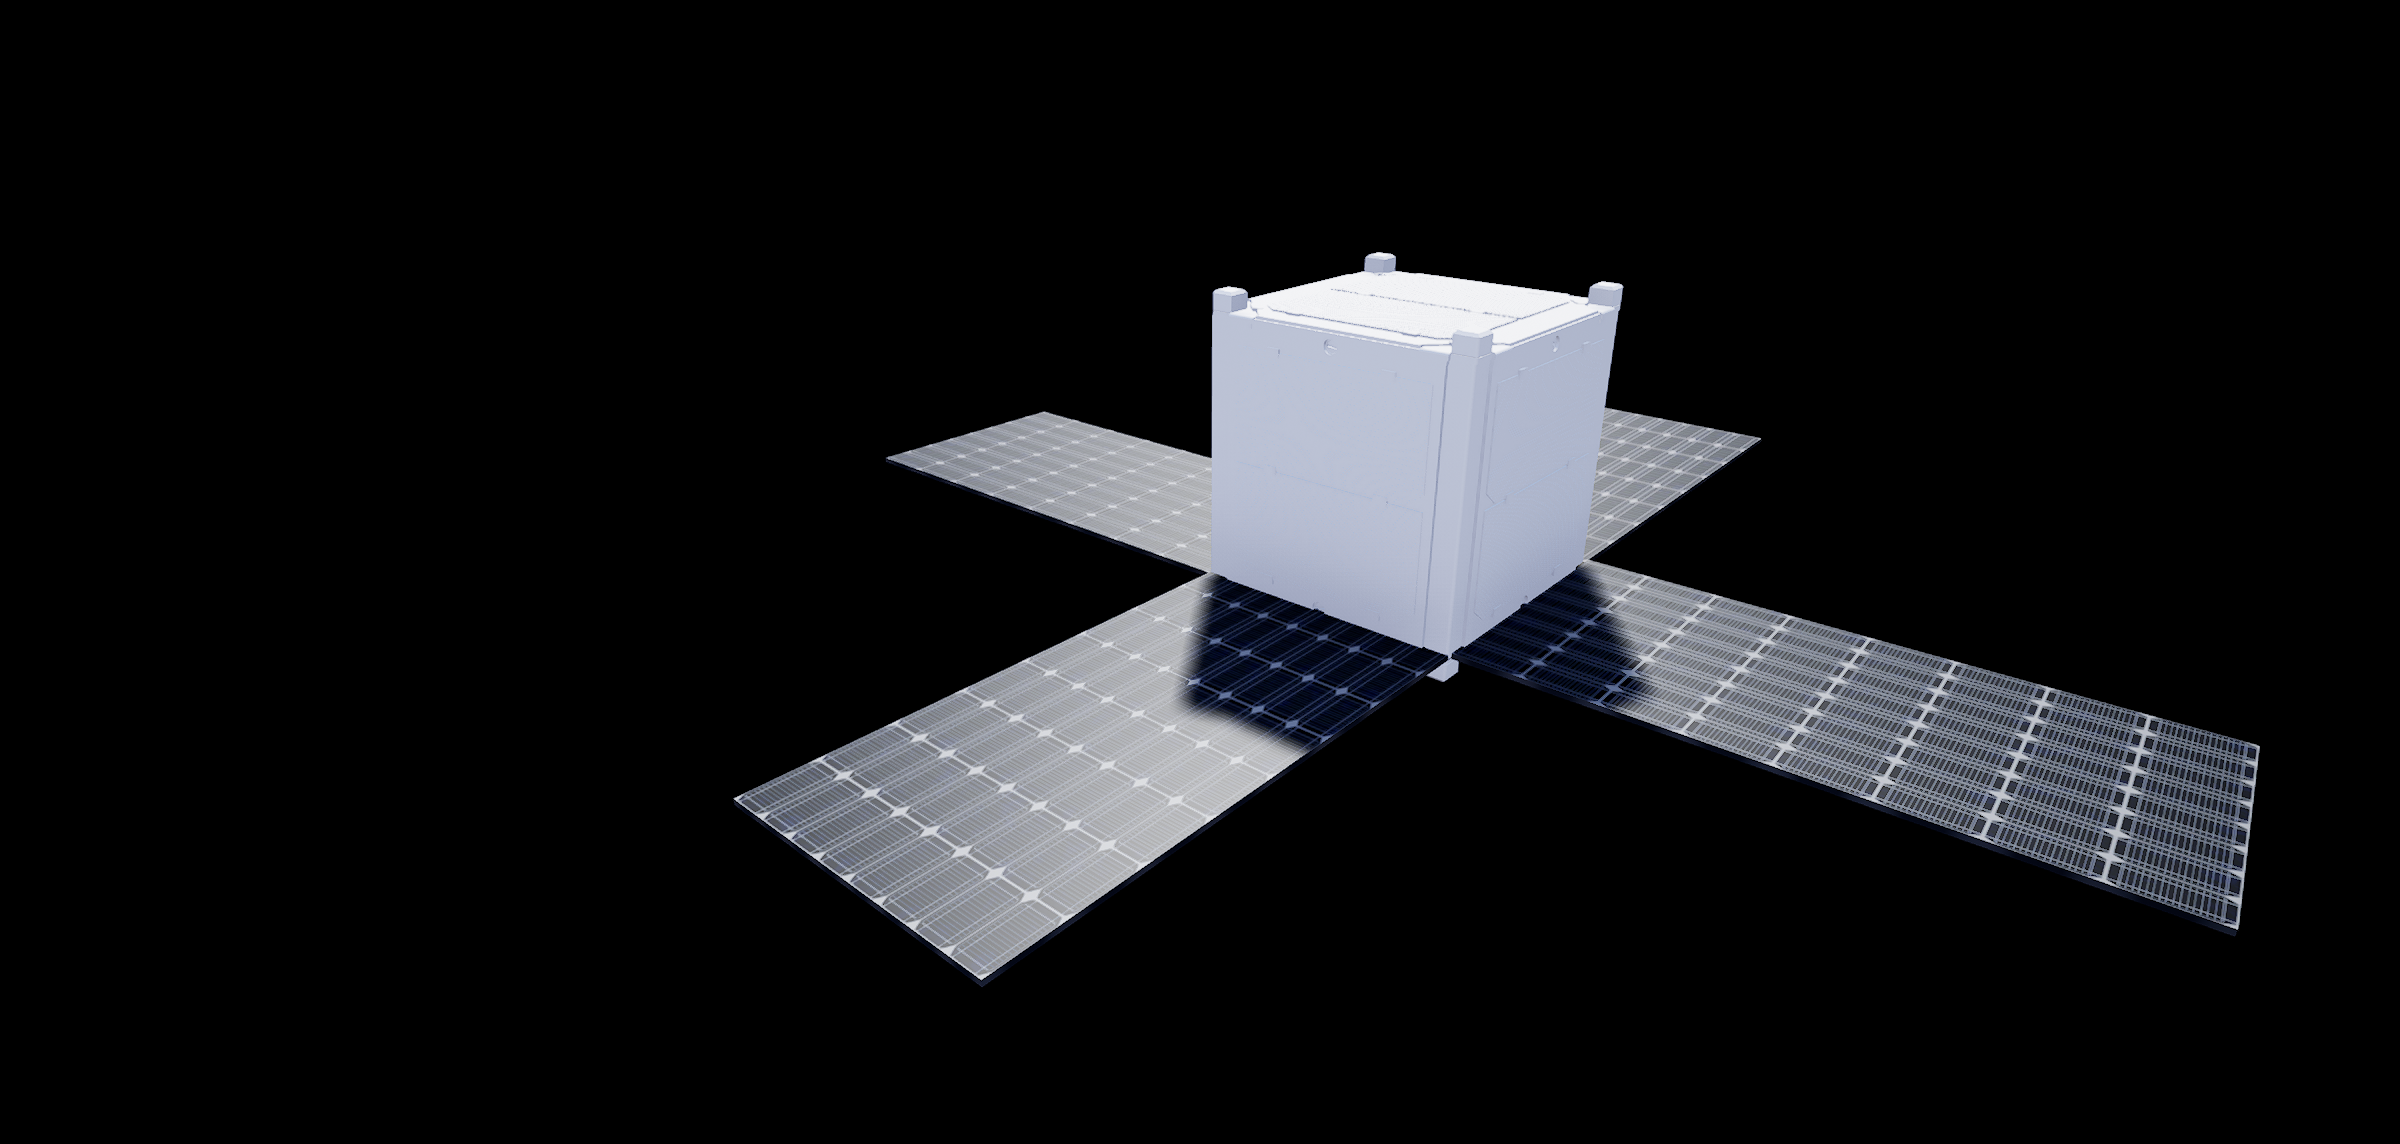satellite: (667, 158, 2297, 1029)
